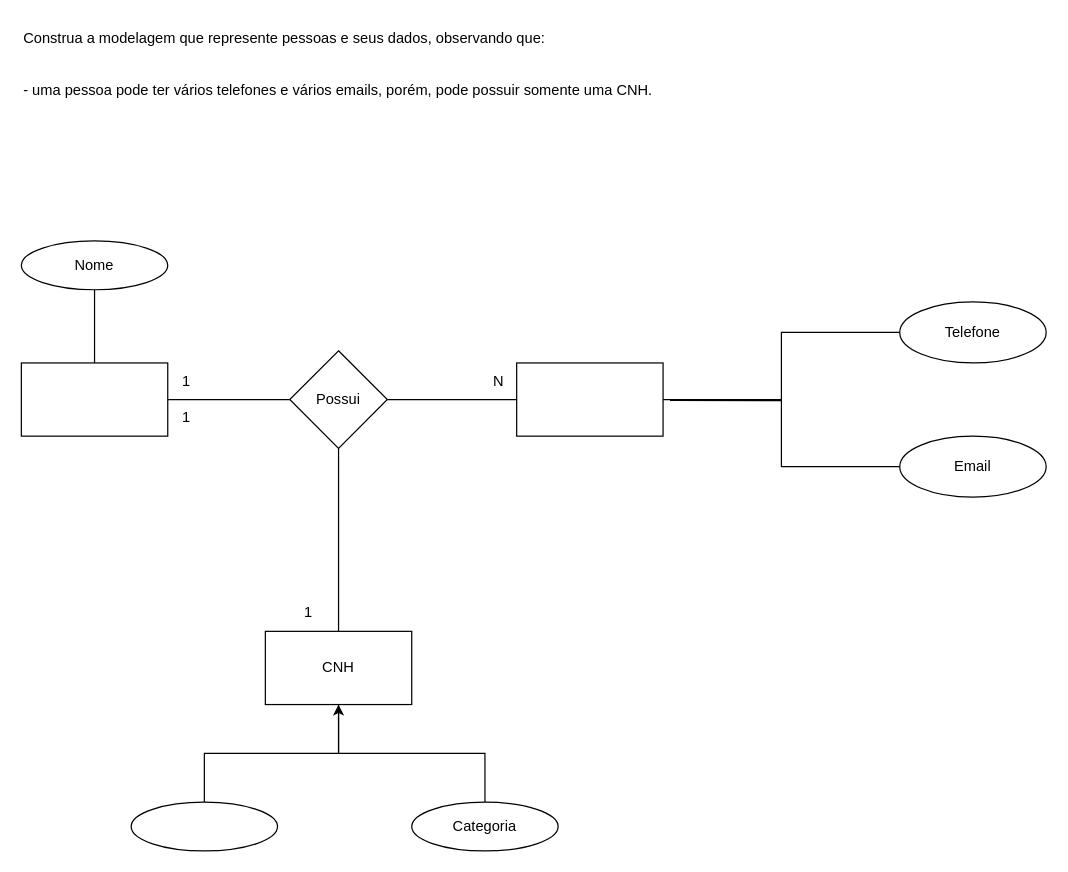
The diagram is 1068 pixels wide and 872 high, and some of its shapes have lost their labels. The centre of each missing label's shape, as x and y in pixels:
"Contatos" goes at pixel 589 399.
"Numero" goes at pixel 204 826.
"Pessoa" goes at pixel 94 399.
